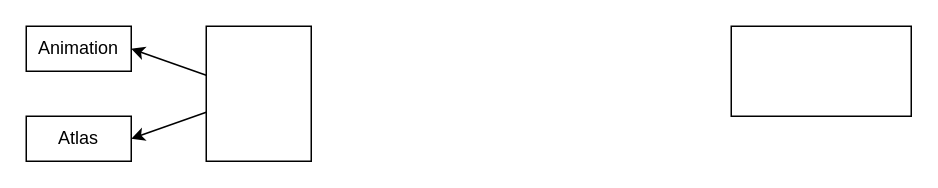
The diagram is 938 pixels wide and 188 high, and some of its shapes have lost their labels. The shapes that lost their labels are listed below. From the top down, each one's centre as x and y in pixels, then its label:
the point at 820,70: World
the point at 258,93: Graphic
